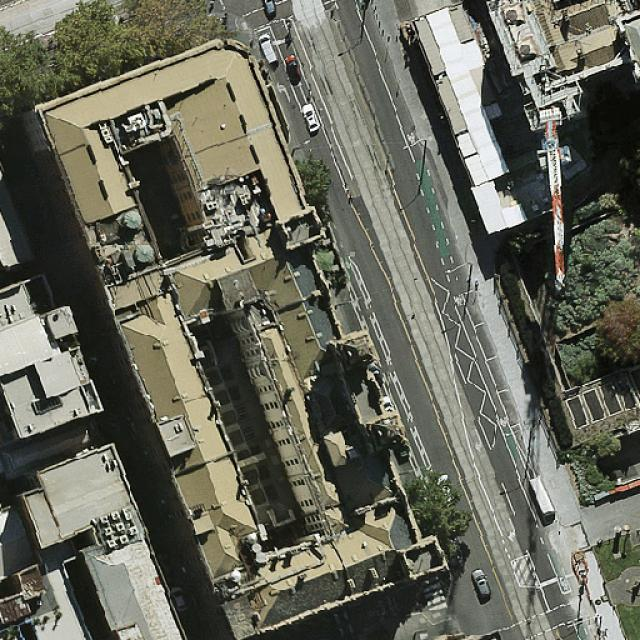Bike-Symbols: (558, 578, 571, 594), (405, 131, 418, 144), (453, 295, 465, 307), (498, 416, 510, 428), (343, 261, 354, 270)
